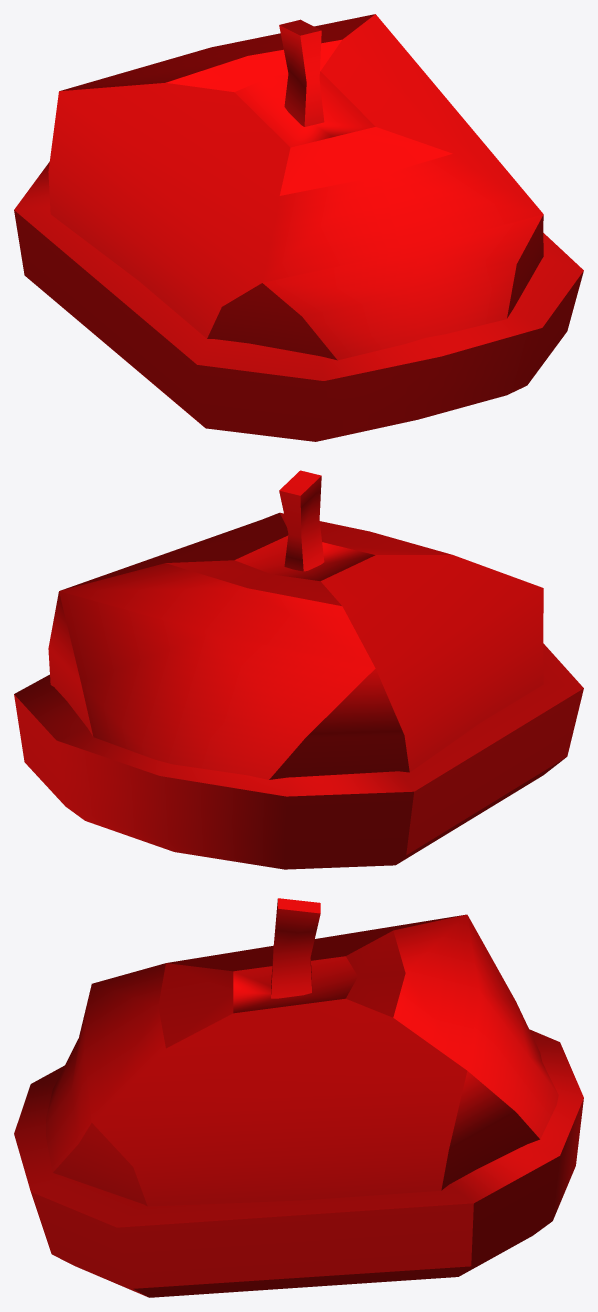
The picture shows the model from 3 angles, top to bottom: view 1: azimuth 30°, elevation 25°; view 2: azimuth 150°, elevation 25°; view 3: azimuth 270°, elevation 25°; orthographic projection.
Visible parts, largest first — view 1: FeltedHat; view 2: FeltedHat; view 3: FeltedHat.
Part boxes in pixels (<box>): FeltedHat: <box>14,14,583,441</box>; FeltedHat: <box>14,470,583,869</box>; FeltedHat: <box>14,898,583,1297</box>.
Bounding box in the file's own units: 0.2424 × 0.1807 × 0.2957.
Materials: 1 (1 with a texture image).
